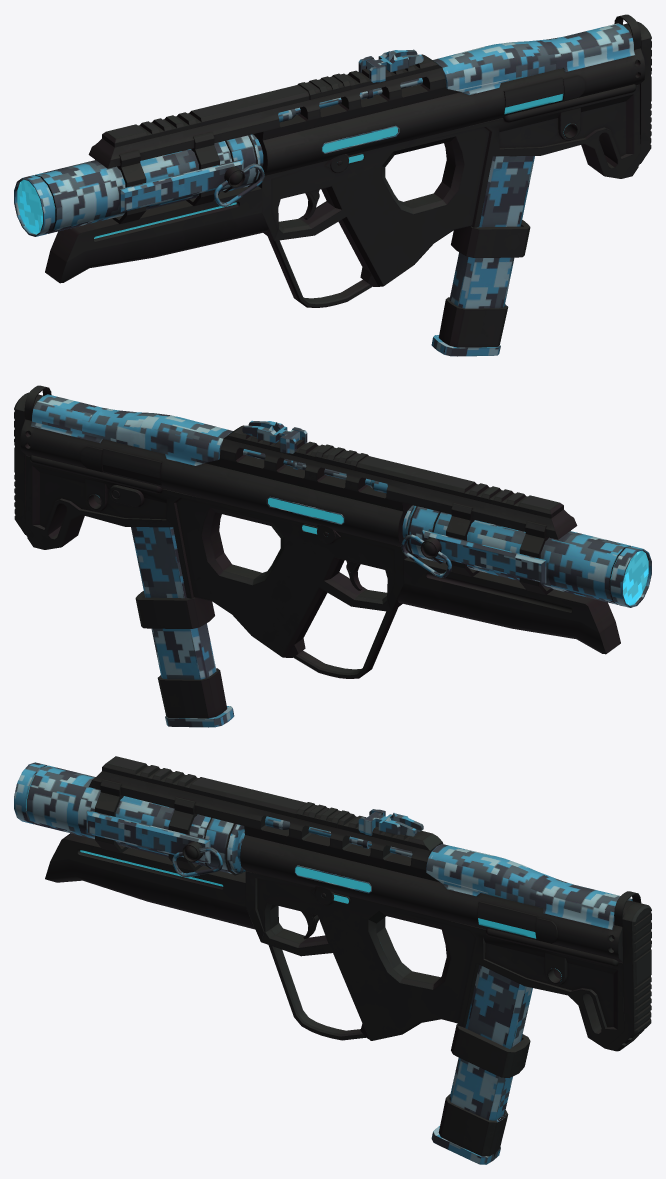
File: smg1.fbx
3 renders of one model, top to bottom at view 1: azimuth 30°, elevation 25°; view 2: azimuth 150°, elevation 25°; view 3: azimuth 330°, elevation 25°, orthographic.
Parts seen in each view (by area): view 1: Smg1, Smg1_Magazine; view 2: Smg1, Smg1_Magazine; view 3: Smg1, Smg1_Magazine.
Boxes of the visible parts, box(x1,y1,x2,y2) form: Smg1: box(14, 14, 651, 307); Smg1_Magazine: box(431, 156, 534, 356); Smg1: box(14, 385, 651, 678); Smg1_Magazine: box(131, 527, 234, 727); Smg1: box(14, 756, 651, 1051); Smg1_Magazine: box(431, 965, 532, 1164).
Bounding box in the file's own units: 473 × 236 × 62.86.
